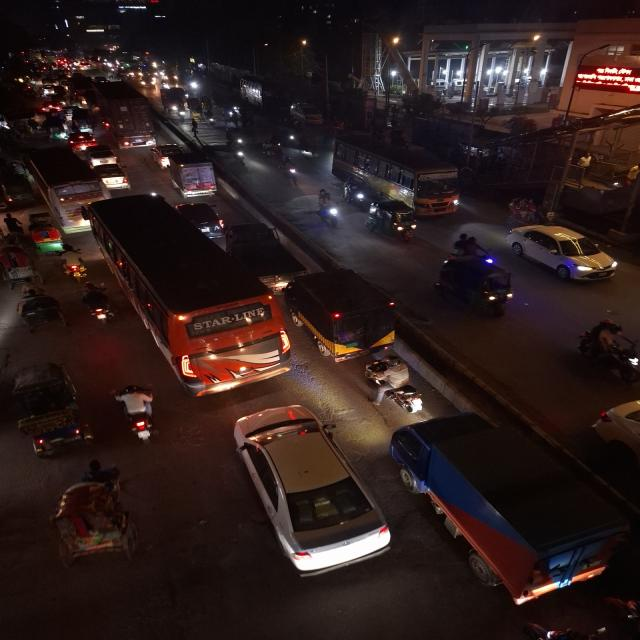bus: (89, 196, 289, 396), (329, 133, 466, 215), (15, 146, 108, 217), (87, 81, 158, 149), (238, 74, 284, 110)
car: (391, 416, 634, 611), (222, 402, 388, 579), (504, 222, 624, 286), (178, 198, 227, 238), (95, 163, 132, 189), (149, 143, 184, 169), (84, 145, 120, 167)
cng: (288, 269, 406, 365), (434, 254, 518, 318), (366, 198, 421, 244), (43, 116, 69, 142)
motorcycle: (574, 315, 640, 386), (110, 382, 164, 446), (361, 353, 413, 391), (78, 280, 117, 328), (378, 380, 431, 415), (310, 188, 343, 230), (450, 232, 493, 262), (58, 248, 91, 284), (222, 126, 249, 164), (276, 155, 302, 188)
pedestrian: (1, 211, 24, 241), (189, 119, 199, 138)
pickup_van: (229, 221, 308, 289)
rickshaw: (46, 456, 137, 570), (10, 359, 93, 461), (230, 221, 310, 287), (13, 288, 68, 336), (26, 212, 67, 254), (0, 245, 35, 290), (502, 195, 549, 225)
truck: (396, 427, 635, 609), (168, 153, 222, 199)
